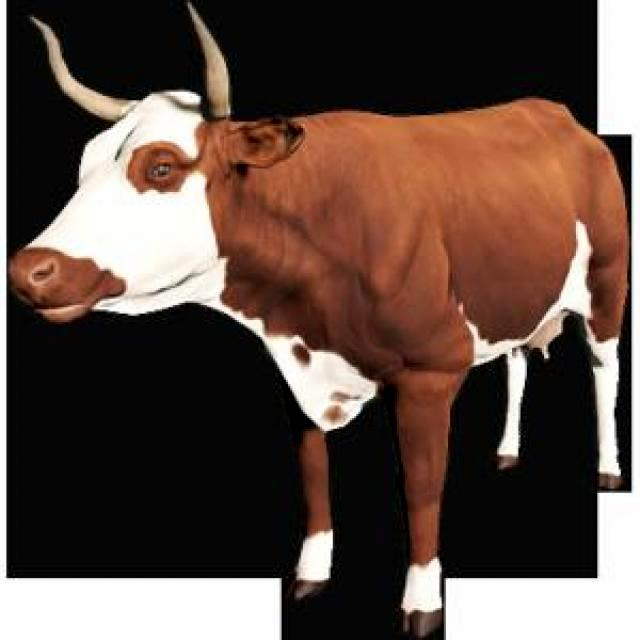COW: (9, 4, 628, 636)
